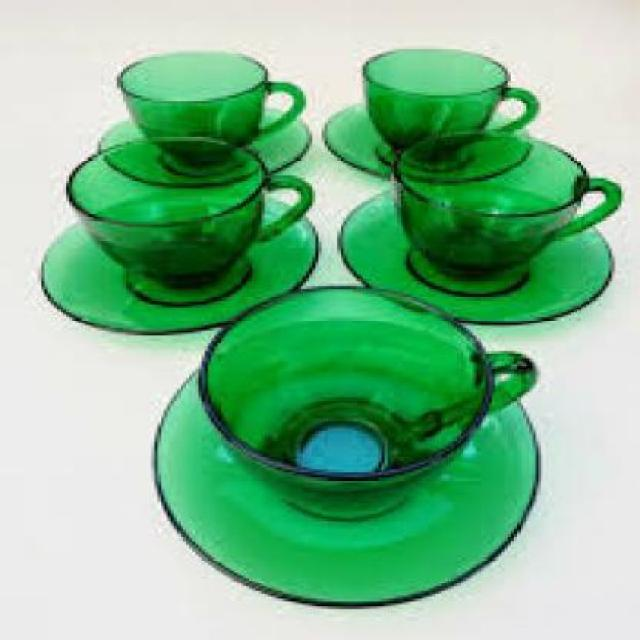kaca: (152, 318, 537, 608), (195, 284, 536, 518), (66, 133, 312, 304), (337, 178, 612, 324), (39, 191, 318, 334), (388, 126, 622, 294), (114, 49, 303, 171), (360, 46, 540, 168), (322, 91, 536, 178), (97, 103, 306, 183)
